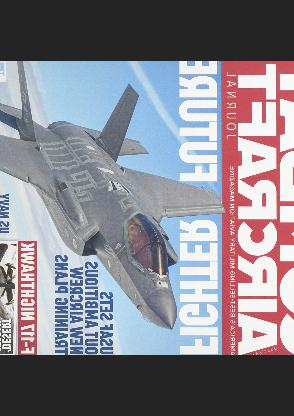E7: (0, 244, 15, 321)
F22: (0, 61, 227, 331)
